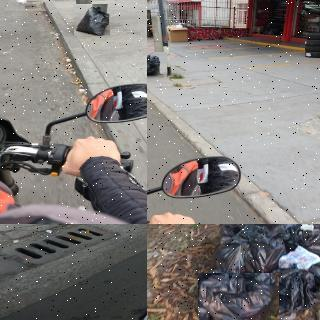Garbage: (197, 273, 279, 320), (216, 230, 288, 277), (293, 224, 320, 268), (74, 4, 110, 36), (147, 52, 166, 78)
